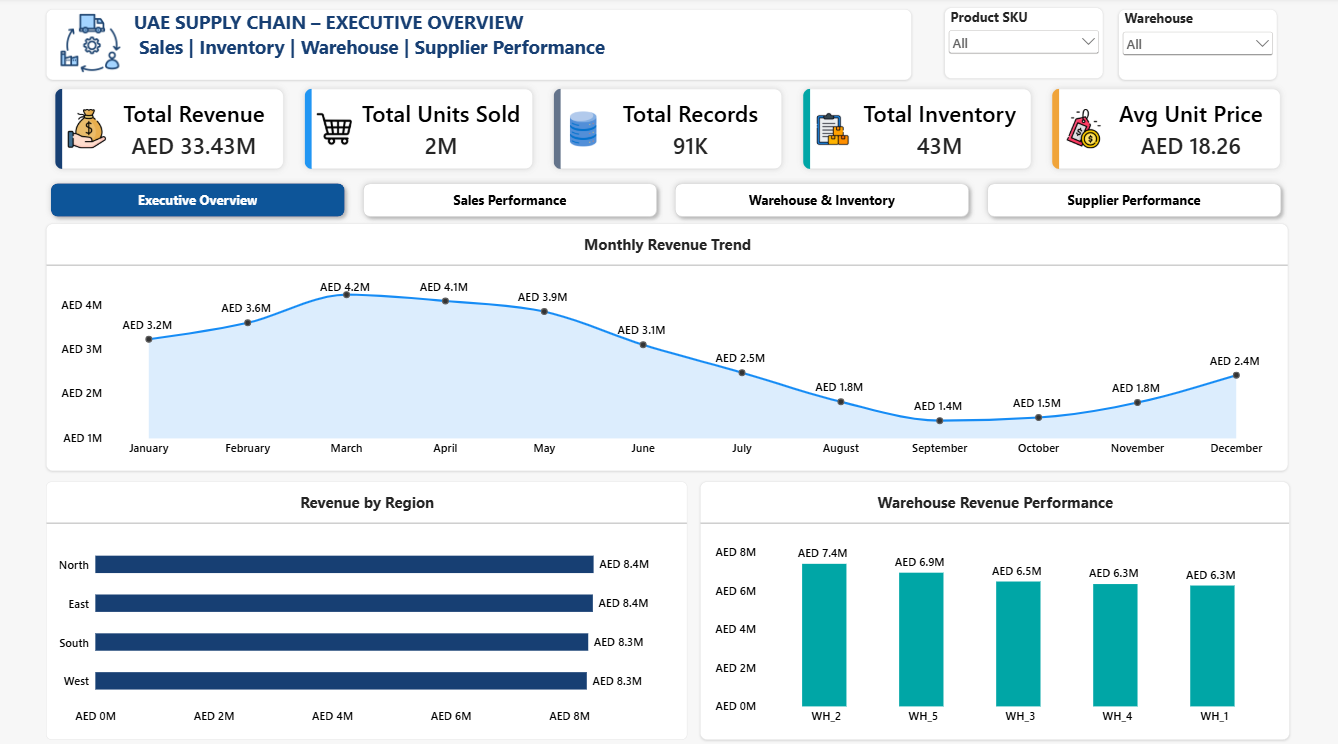

This screenshot's page, from the dashboard's own definition file:
{"tool":"powerbi","page":{"name":"Executive Overview","canvas":[1920,1080],"ordinal":0},"visuals":[{"type":"cardVisual","fields":{"Data":["#Measures.Total Revenue","#Measures.Total Units Sold","#Measures.Total Records","#Measures.Total Inventory","#Measures.Average Unit Price"]},"box":[70.9,120.3,1781.2,137.5],"z":0},{"type":"lineChart","title":"Monthly Revenue Trend","fields":{"Category":["public supply_chain.month_name"],"Y":["#Measures.Total Revenue"]},"box":[68.8,324.4,1779,354.5],"z":1000},{"type":"clusteredBarChart","title":"Revenue by Region","fields":{"Category":["public supply_chain.region"],"Y":["#Measures.Total Revenue"]},"box":[69.2,694.3,918.6,369.8],"z":2000},{"type":"clusteredColumnChart","title":"Warehouse Revenue Performance","fields":{"Category":["public supply_chain.warehouse_id"],"Y":["#Measures.Total Revenue"]},"box":[1004.5,694.3,844.6,369.8],"z":3000},{"type":"pageNavigator","box":[66.6,257.8,1781.2,66.6],"z":4000},{"type":"textbox","box":[68.1,18.2,1240.1,102.2],"z":5000},{"type":"slicer","fields":{"Values":["public supply_chain.sku_id"]},"box":[1356,15.9,227.1,102.2],"z":6000},{"type":"slicer","fields":{"Values":["public supply_chain.warehouse_id"]},"box":[1605.8,18.2,227.1,102.2],"z":7000},{"type":"image","box":[88.6,15.9,88.6,102.2],"z":7001}]}

Visuals, with their boxes in screenshot pixels (x1, y1, x2, y2), scaled from the page's 1920x1080 canvas onto the 1338x744 screenshot:
cardVisual - #Measures.Total Revenue x #Measures.Total Units Sold: [49,83,1291,178]
"Monthly Revenue Trend" lineChart: [48,223,1288,468]
"Revenue by Region" clusteredBarChart: [48,478,688,733]
"Warehouse Revenue Performance" clusteredColumnChart: [700,478,1289,733]
pageNavigator: [46,178,1288,223]
textbox: [47,13,912,83]
slicer - public supply_chain.sku_id: [945,11,1103,81]
slicer - public supply_chain.warehouse_id: [1119,13,1277,83]
image: [62,11,123,81]
